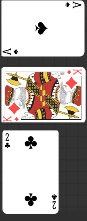2C: (4, 132, 12, 149)
AC: (3, 46, 20, 55), (51, 192, 58, 210)
